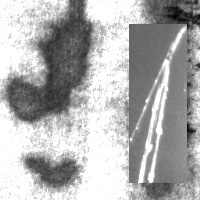patches: (11, 1, 94, 121), (138, 62, 194, 197), (141, 1, 194, 64), (21, 149, 78, 189)
scratches: (129, 24, 187, 183)
